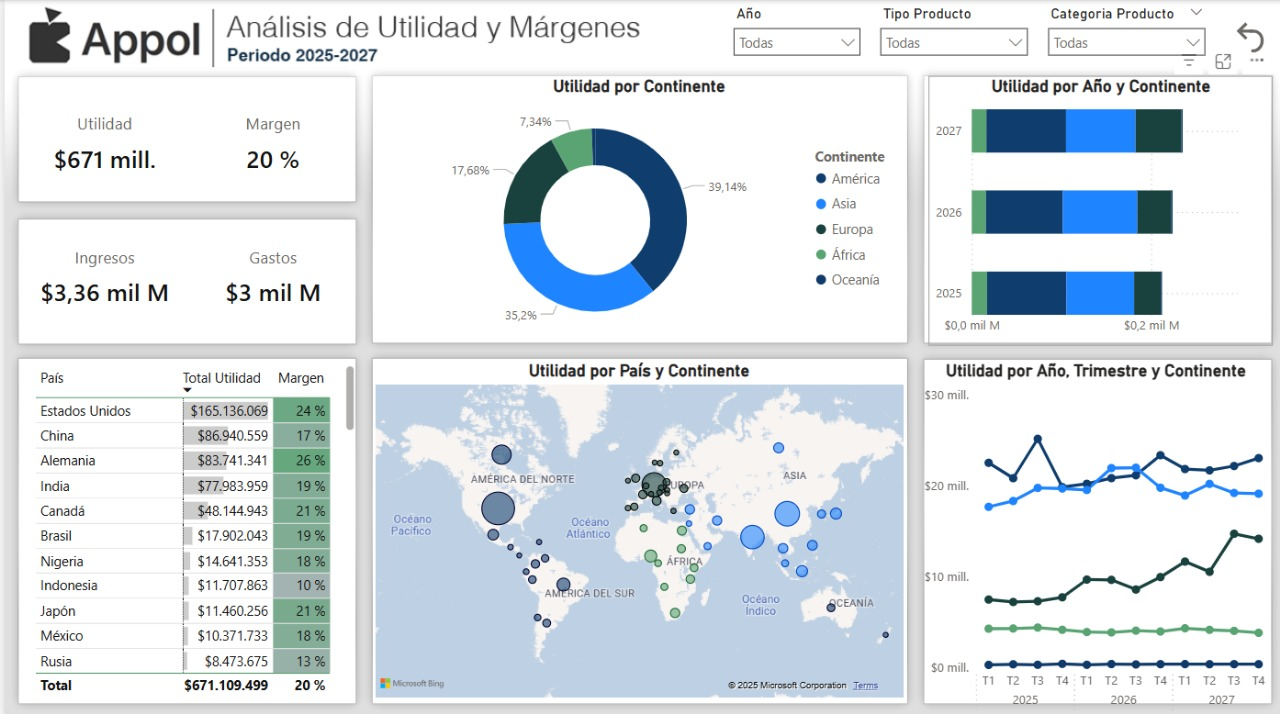

The page's visual inventory and layout, read from the dashboard file:
{"tool":"powerbi","page":{"name":"Página 1","canvas":[1280,720],"ordinal":0},"visuals":[{"type":"tableEx","fields":{"Values":["Datos.País","Medidas.Total Utilidad","Medidas.Margen"]},"box":[24.9,359.6,329.2,341.6],"z":0},{"type":"cardVisual","fields":{"Data":["Medidas.Total Utilidad","Medidas.Margen","Medidas.Total Ingresos","Medidas.Total Gastos"]},"box":[15.2,76.1,338.9,268.3],"z":1000},{"type":"barChart","title":"Utilidad por Año y Continente","fields":{"Category":["Datos.Año"],"Y":["Medidas.Total Utilidad"],"Series":["Datos.Continente"]},"box":[921.2,76.1,344.4,268.3],"z":2000},{"type":"donutChart","title":"Utilidad por Continente","fields":{"Category":["Datos.Continente"],"Y":["Medidas.Total Utilidad"]},"box":[365.2,76.1,536.7,268.3],"z":3000},{"type":"map","title":"Utilidad por País y Continente","fields":{"Category":["Datos.País"],"Size":["Medidas.Total Utilidad"],"Series":["Datos.Continente"]},"box":[365.2,359.6,536.7,341.6],"z":4000},{"type":"lineChart","title":"Utilidad por Año, Trimestre y Continente","fields":{"Category":["Datos.Año","Datos.Trimestre"],"Y":["Medidas.Total Utilidad"],"Series":["Datos.Continente"]},"box":[911.5,359.6,354.1,361],"z":5000},{"type":"slicer","fields":{"Values":["Datos.Año"]},"box":[716.5,0,146.6,58.1],"z":6000},{"type":"slicer","fields":{"Values":["Productos.Categoria Producto"]},"box":[1030.5,0,177,58.1],"z":7000},{"type":"slicer","fields":{"Values":["Datos.Tipo Producto"]},"box":[863.1,0,167.4,58.1],"z":8000},{"type":"actionButton","box":[1222.7,18,42.9,40.1],"z":8001}]}

Visuals, with their boxes on the page's 1280x720 design canvas (x1, y1, x2, y2). These are canvas units, not pixel positions in the 1280x714 screenshot, which may show the page scaled, cropped or inside an application window:
tableEx - Datos.País x Medidas.Total Utilidad: [25,360,354,701]
cardVisual - Medidas.Total Utilidad x Medidas.Margen: [15,76,354,344]
"Utilidad por Año y Continente" barChart: [921,76,1266,344]
"Utilidad por Continente" donutChart: [365,76,902,344]
"Utilidad por País y Continente" map: [365,360,902,701]
"Utilidad por Año, Trimestre y Continente" lineChart: [912,360,1266,721]
slicer - Datos.Año: [716,0,863,58]
slicer - Productos.Categoria Producto: [1030,0,1208,58]
slicer - Datos.Tipo Producto: [863,0,1030,58]
actionButton: [1223,18,1266,58]
